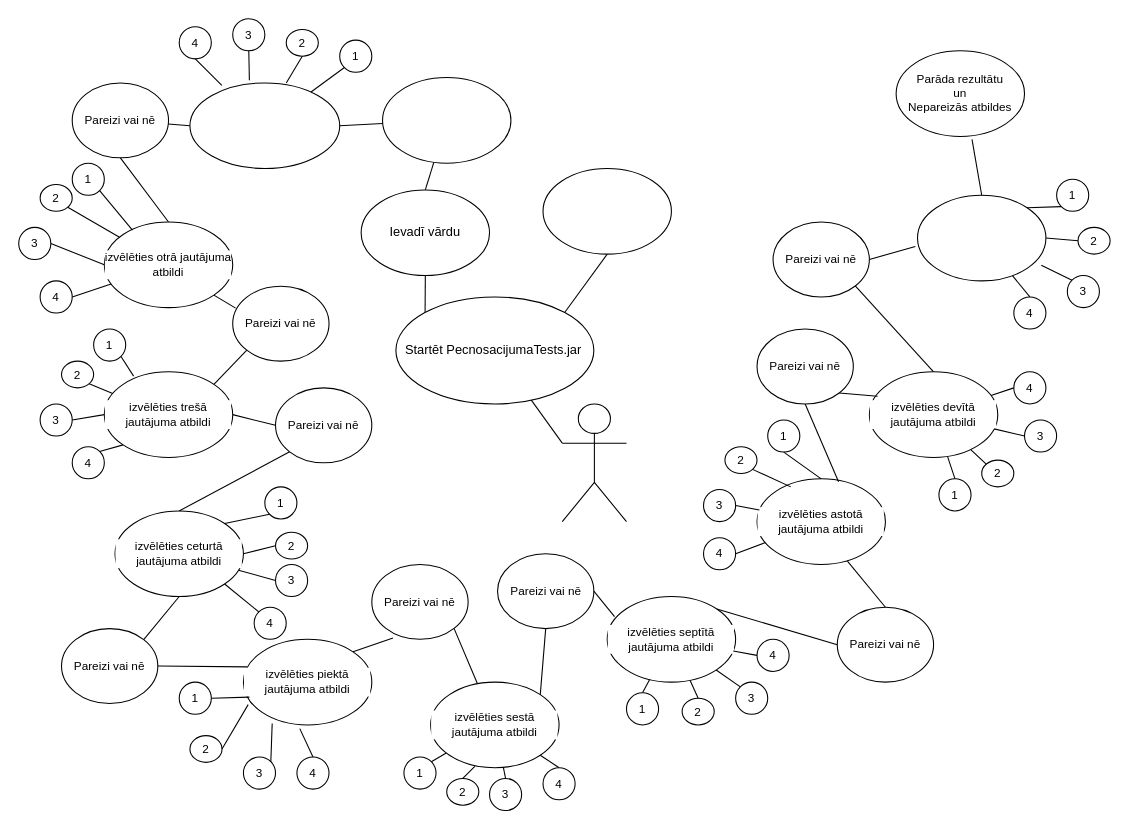
Image size: 1129x829. Some labels were removed from this diagram. Each missing label, with the centre of its shape:
"Iziet no programmas" belongs at [606,210].
"izvēlēties pirmā jautājuma atbildi" belongs at [264,125].
"izvēlēties pēdējā jautājuma atbildi" belongs at [981,237].
"Sākt testu" belongs at [446,120].
"Windows OS lietotājs" belongs at [593,462].
